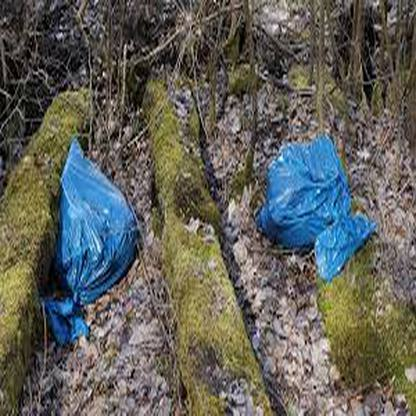plastic bag: (43, 139, 138, 345), (257, 134, 377, 281)
